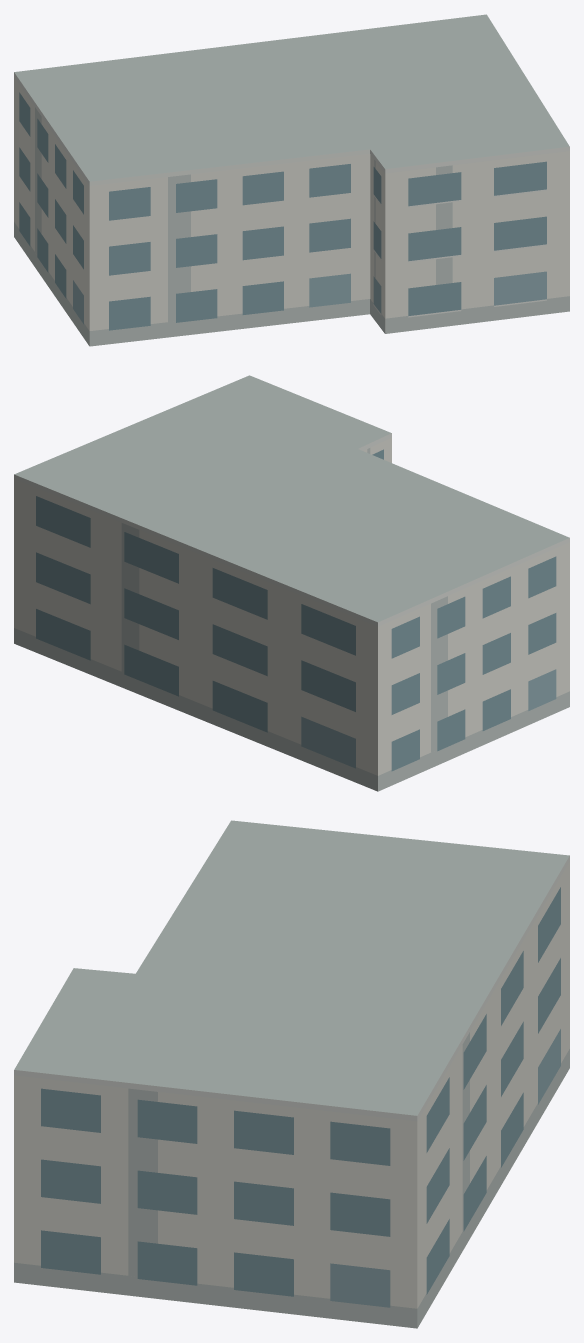
The model's file is survey-upis-32745700.glb.
3 renders of one model, top to bottom at view 1: azimuth 30°, elevation 25°; view 2: azimuth 150°, elevation 25°; view 3: azimuth 270°, elevation 25°, orthographic. The views are drawn at different scales.
Parts seen in each view (by area): view 1: survey-upis-32745700.tmp; view 2: survey-upis-32745700.tmp; view 3: survey-upis-32745700.tmp.
Part boxes in pixels (box(x1,y1,x2,y2)): survey-upis-32745700.tmp: box(14, 14, 569, 346); survey-upis-32745700.tmp: box(14, 375, 569, 791); survey-upis-32745700.tmp: box(14, 820, 569, 1328).
Size of the model in its own units: 27.28 by 9.15 by 21.68.
